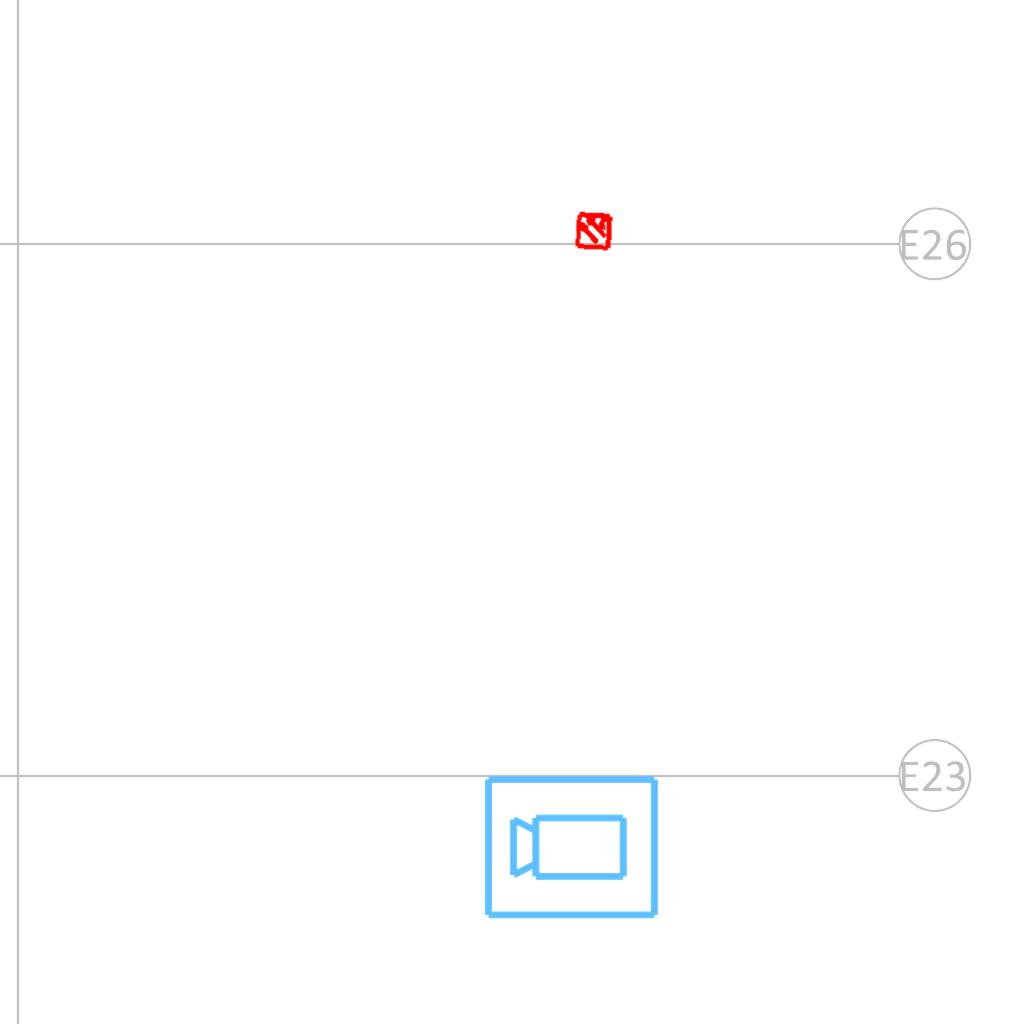KFO_Kamera_mit_Festobjektiv: (481, 769, 663, 923)
OT_Multisensormelder_(Kombination_RMO_WMD): (564, 200, 624, 260)
